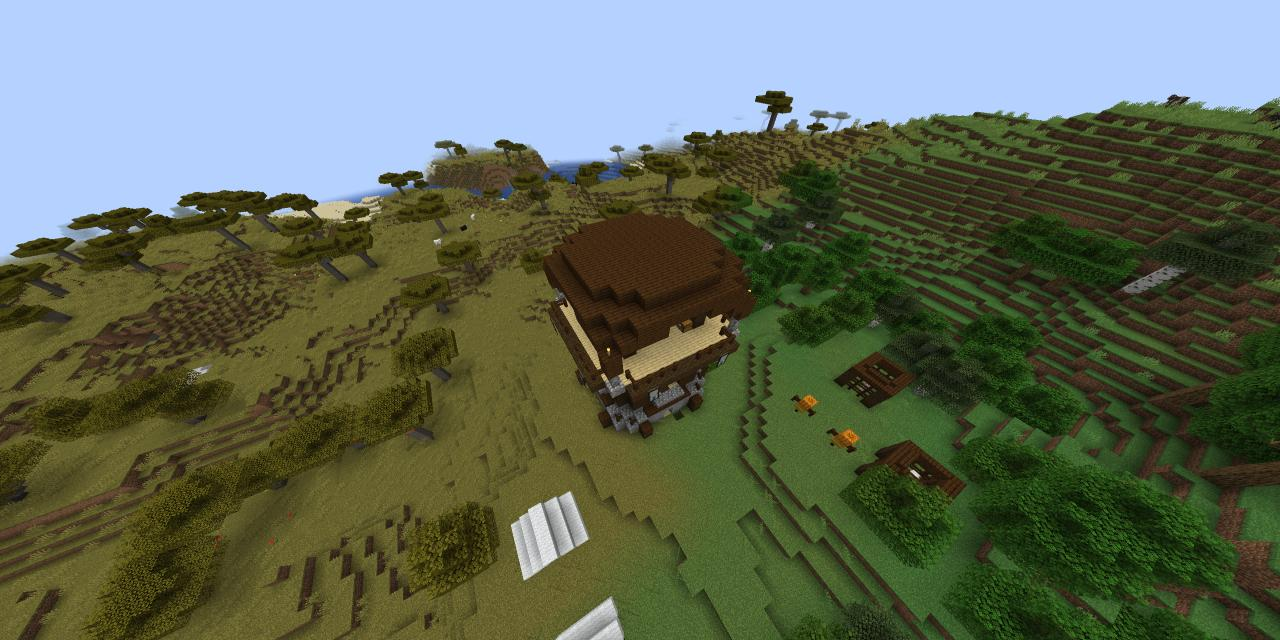pillager outpost: (537, 206, 761, 448)
